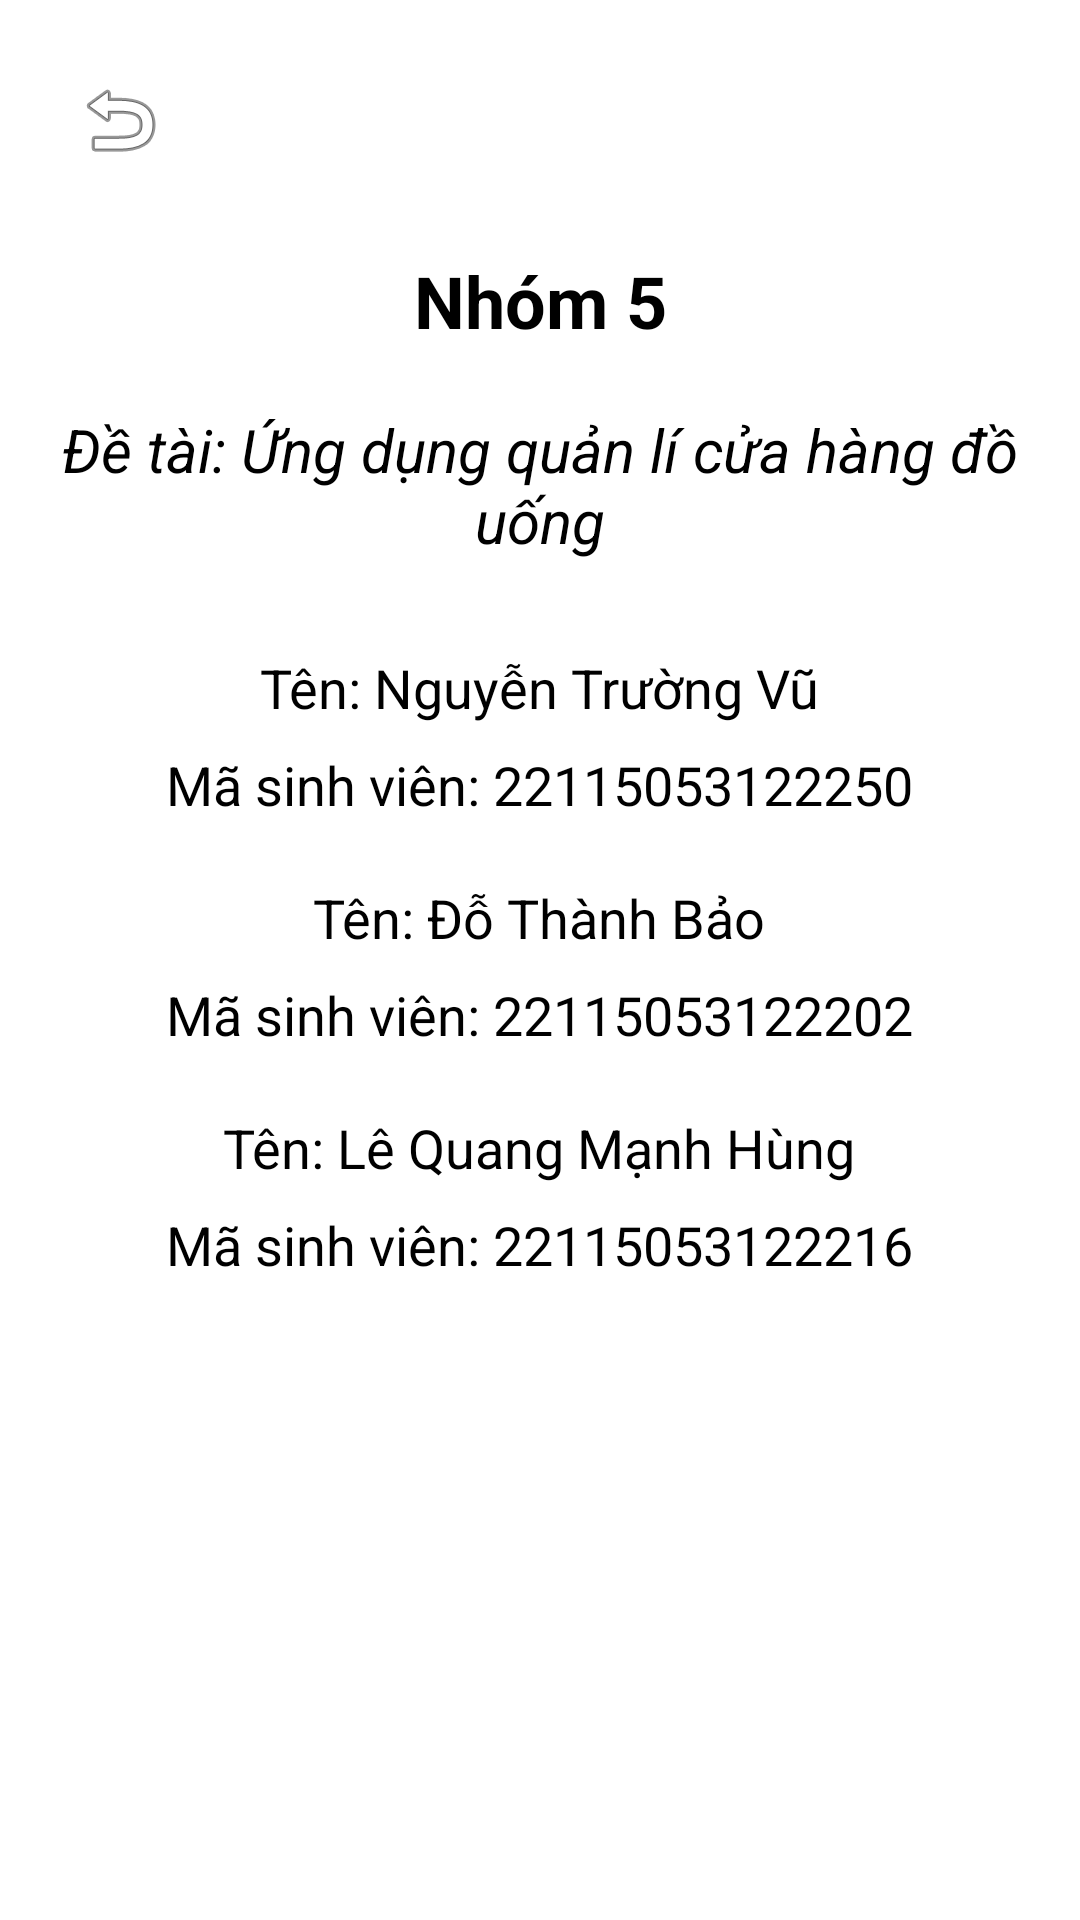

Where icons sit on this 1080x1920 app screen, as {"x1": x1, "y1": y1, "x2": x2, "y2": y2}:
Quay lại: {"x1": 87, "y1": 89, "x2": 156, "y2": 152}
